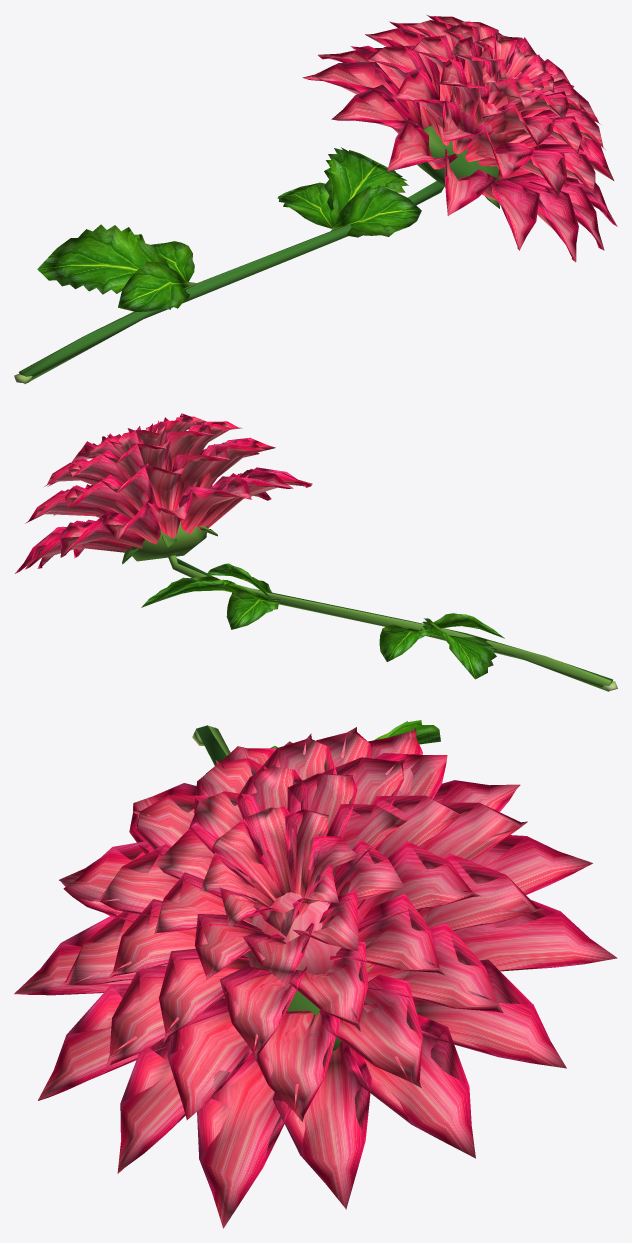
The model's file is NP_Dahlia_Harvest_LOD1.fbx.
3 views of the same model, one above another, from view 1: azimuth 30°, elevation 25°; view 2: azimuth 150°, elevation 25°; view 3: azimuth 270°, elevation 25° (orthographic). The views are drawn at different scales.
Visible parts, largest first — view 1: NP_Dahlia_Harvest; view 2: NP_Dahlia_Harvest; view 3: NP_Dahlia_Harvest.
Part boxes in pixels (<box>): NP_Dahlia_Harvest: <box>14,14,617,383</box>; NP_Dahlia_Harvest: <box>15,413,617,691</box>; NP_Dahlia_Harvest: <box>14,720,617,1228</box>.
Bounding box in the file's own units: 60.89 × 20.37 × 30.81.
